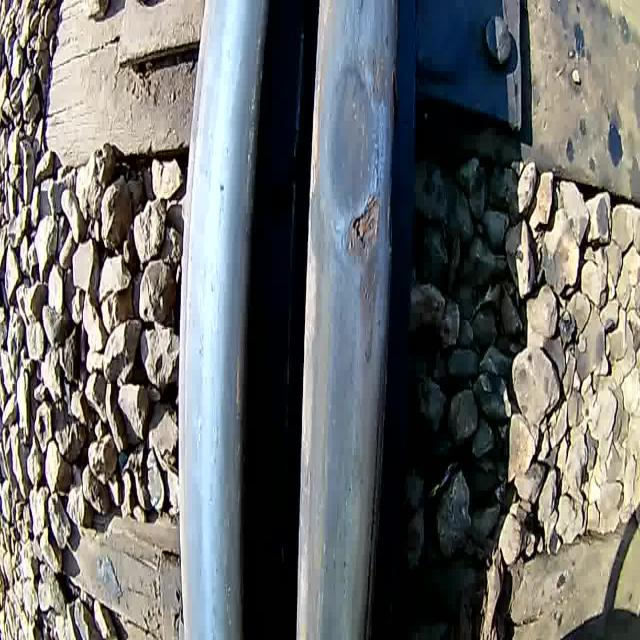Flakings: (168, 0, 282, 640)
Spallings: (322, 190, 402, 276)
Squats: (310, 43, 389, 217), (331, 257, 400, 384)
